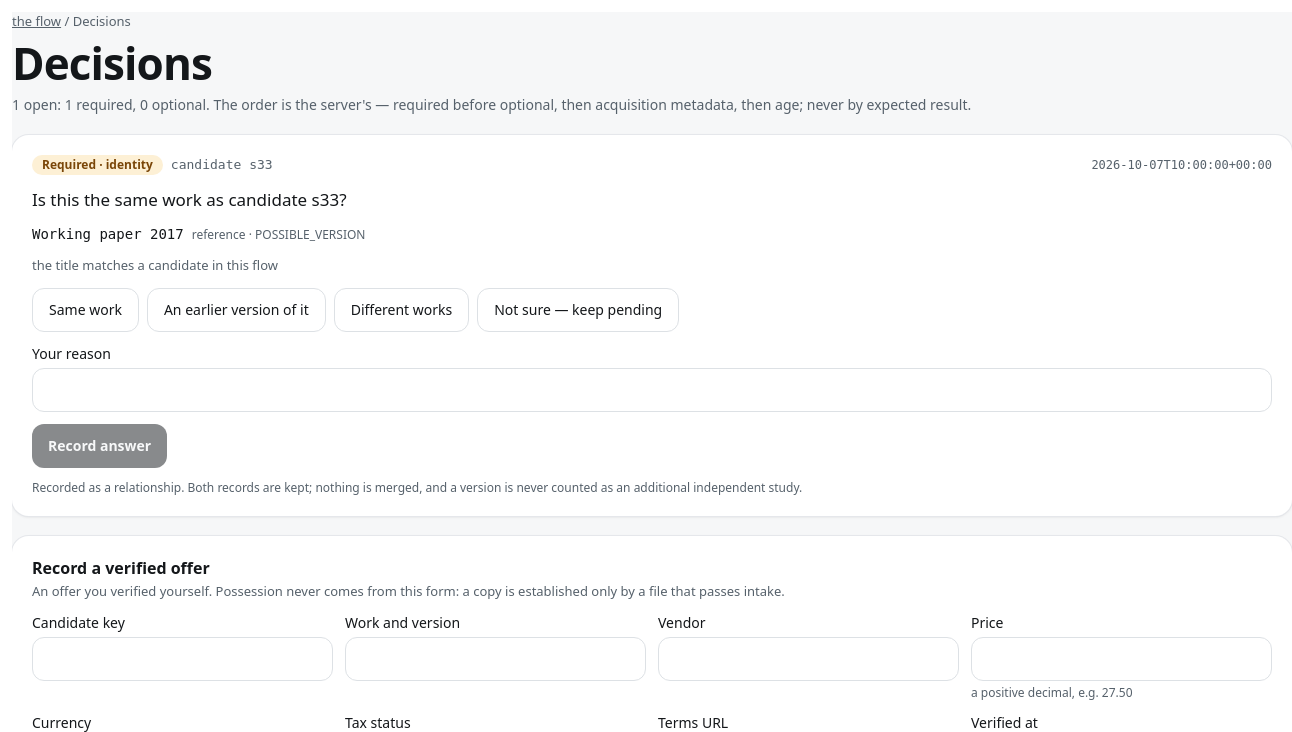
Test: F5: Decisions page › shows the reason hint for a non-not_sure answer, and the server's 422 as given
Click the button "Same work": click(85, 310) [32,288,139,332]
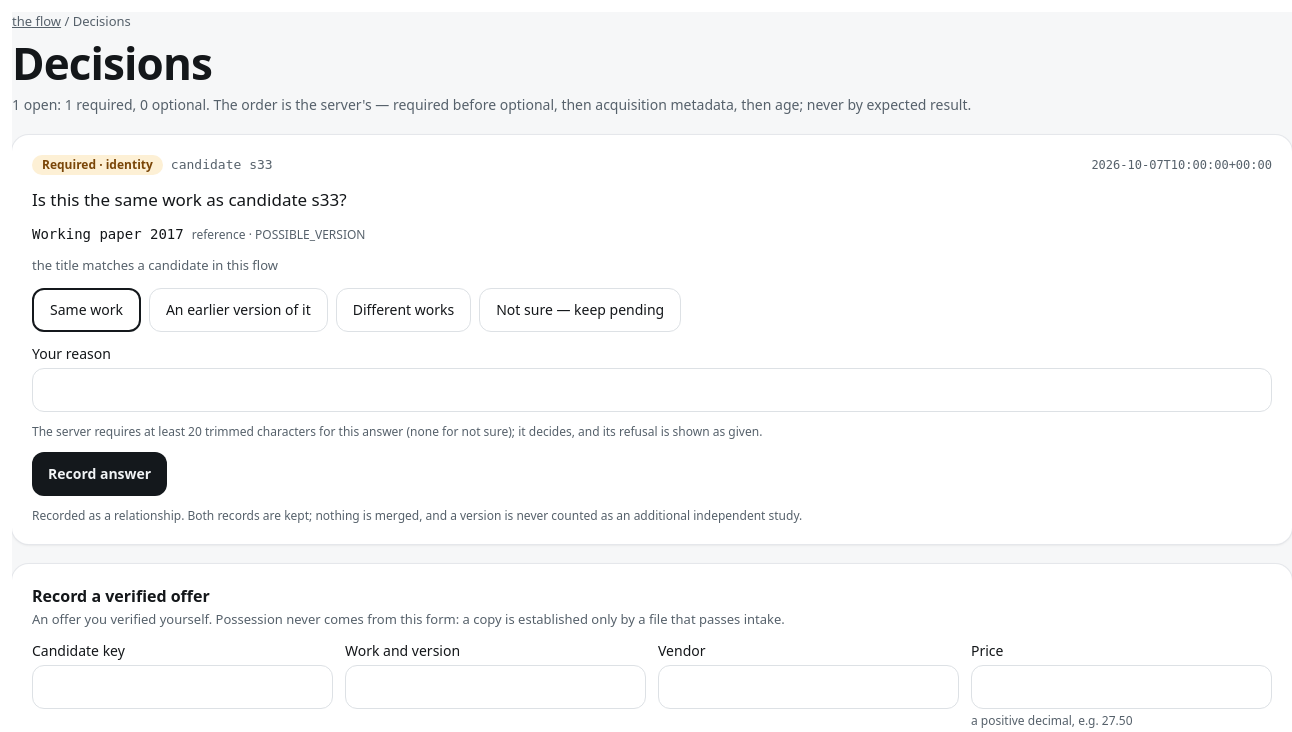
Expected: the text with test id "reason-hint" is shown, [32,422,762,440]
In the field labelled "Your reason": (652, 390) [32,368,1272,412], type "abc"
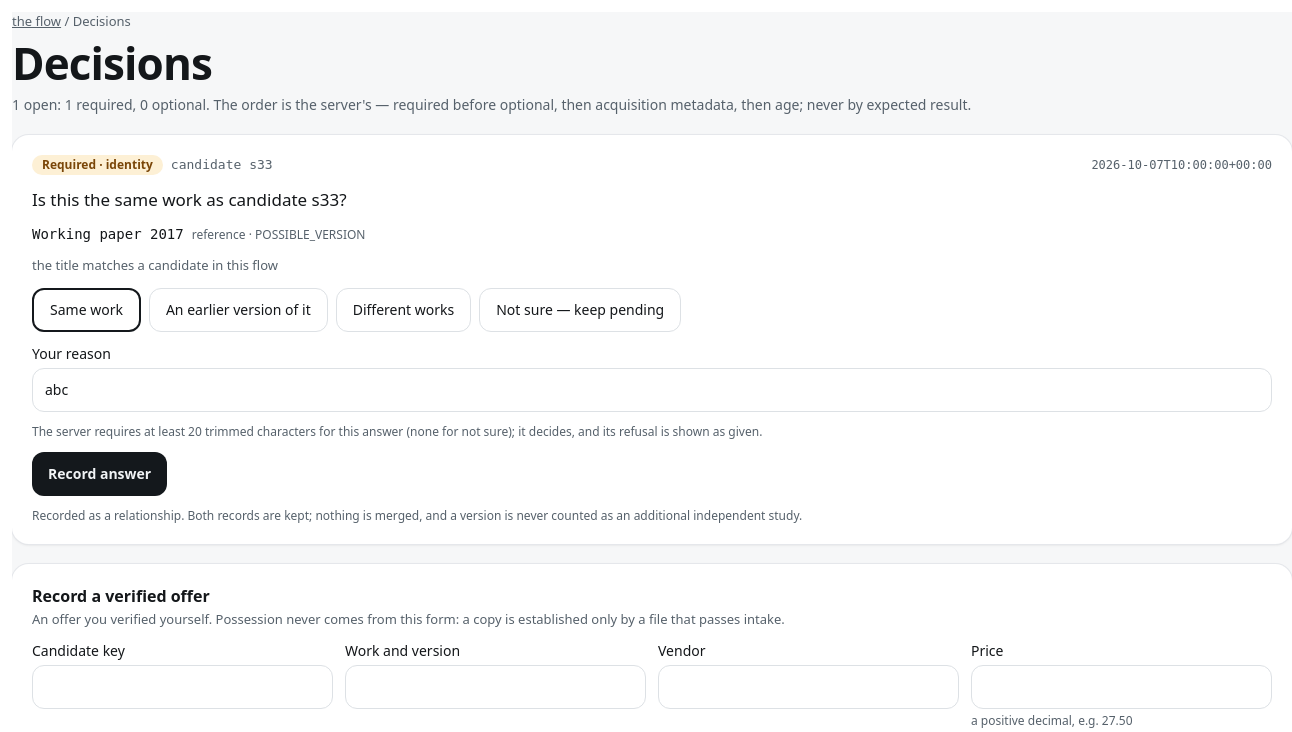
Click the button "Record answer": click(100, 474) [32,452,167,496]
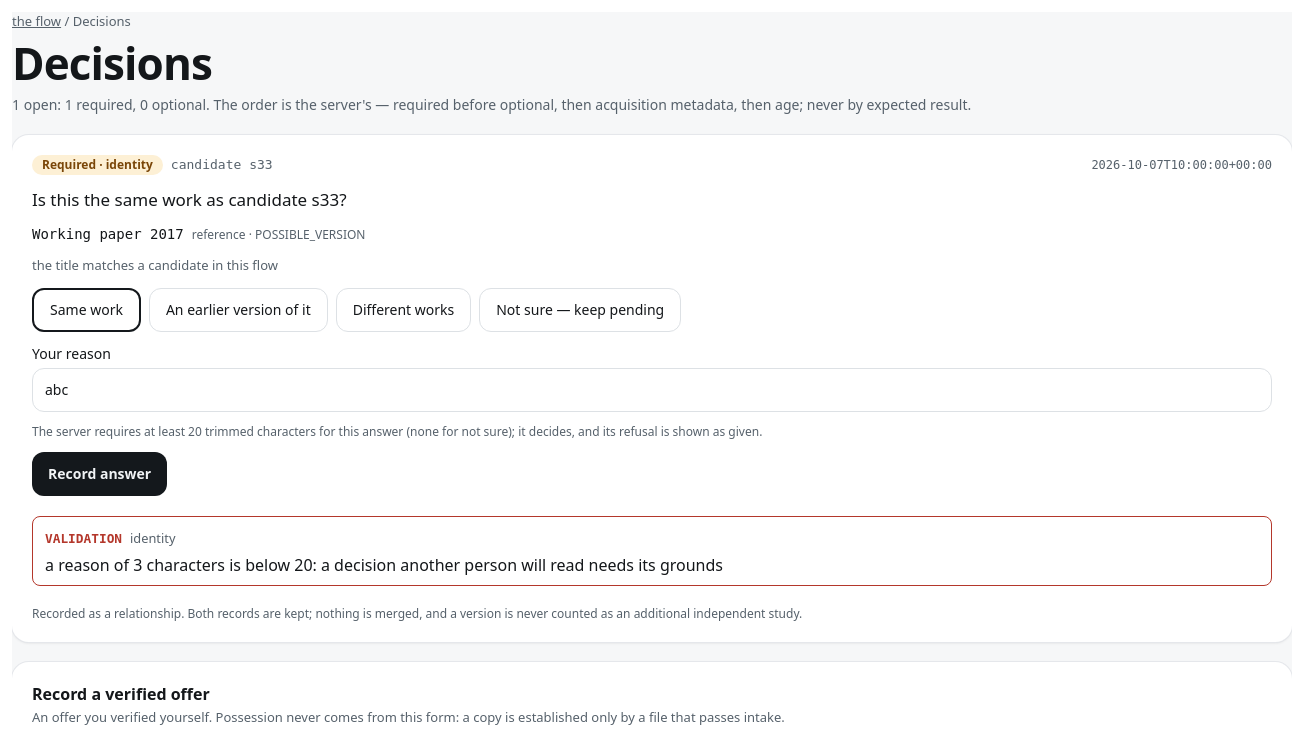
Expected: the text "VALIDATION" is shown, [45,530,122,546]
